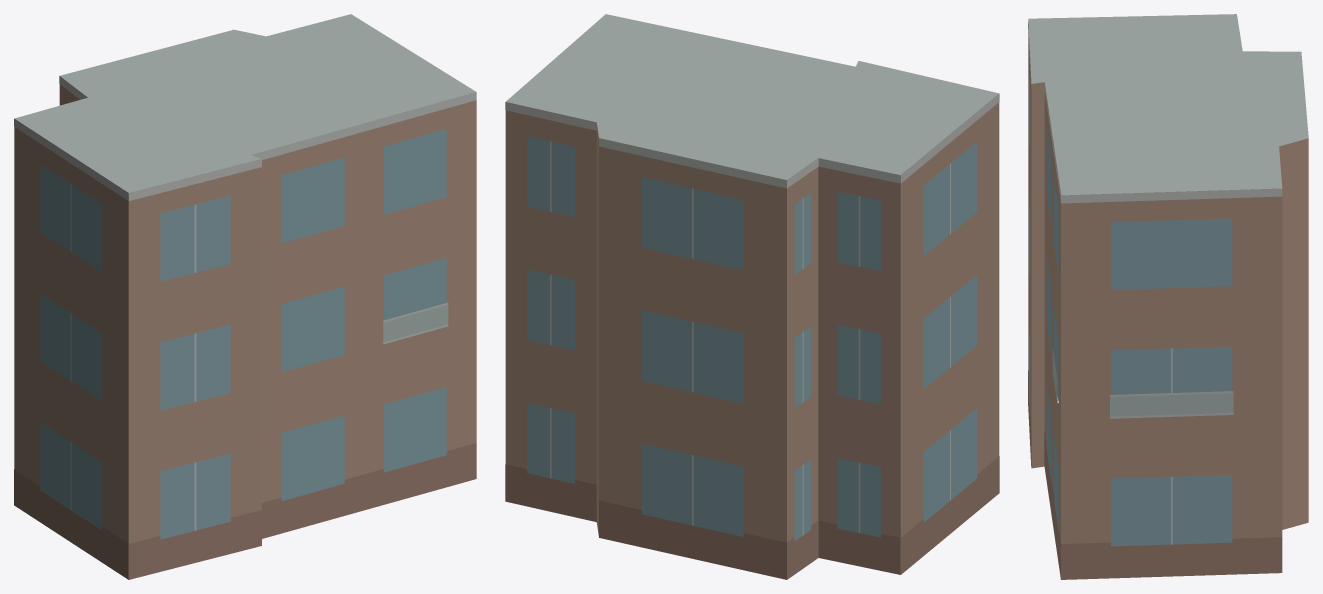
The model's file is survey-upis-32509519.glb.
3 views of the same model, side by side, from view 1: azimuth 30°, elevation 25°; view 2: azimuth 150°, elevation 25°; view 3: azimuth 270°, elevation 25° (orthographic). The views are drawn at different scales.
Visible parts, largest first — view 1: survey-upis-32509519.tmp; view 2: survey-upis-32509519.tmp; view 3: survey-upis-32509519.tmp.
Boxes of the visible parts, x1,y1,x2,y2 form: survey-upis-32509519.tmp: (14,14,476,579); survey-upis-32509519.tmp: (505,14,999,579); survey-upis-32509519.tmp: (1028,14,1308,579).
Size of the model in its own units: 11.75 by 11.6 by 7.68.
